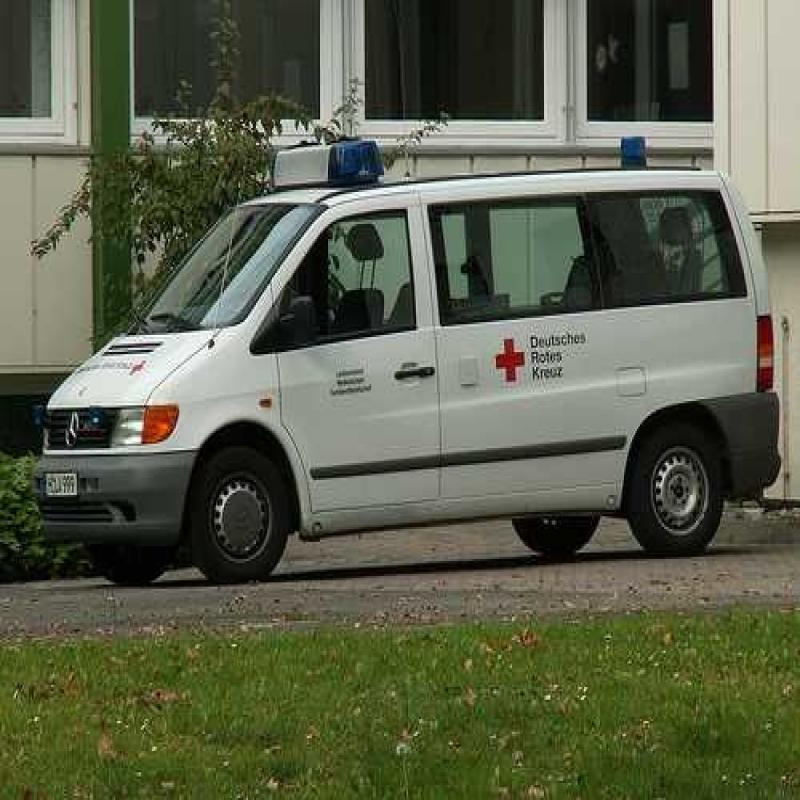AmbulanceSiren: (244, 127, 401, 191)
